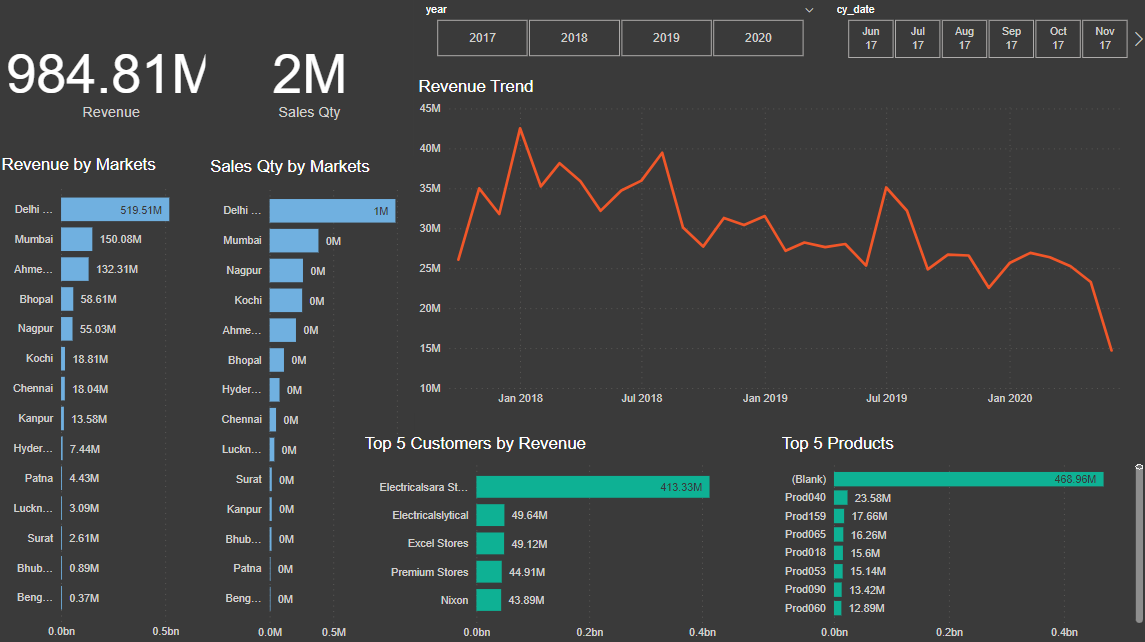

The page's visual inventory and layout, read from the dashboard file:
{"tool":"powerbi","page":{"name":"Page 1","canvas":[1280,720],"ordinal":0},"visuals":[{"type":"card","fields":{"Values":["BaseMeasures.Revenue"]},"box":[0,0,253.3,175],"z":0},{"type":"card","fields":{"Values":["BaseMeasures.Sales Qty"]},"box":[253.3,0,208.3,175],"z":1000},{"type":"barChart","title":"Revenue by Markets","fields":{"Y":["BaseMeasures.Revenue"],"Category":["sales markets.markets_name"]},"box":[0,173.9,231.2,545.7],"z":2000},{"type":"barChart","title":"Sales Qty by Markets","fields":{"Y":["BaseMeasures.Sales Qty"],"Category":["sales markets.markets_name"]},"box":[231.7,175,231.7,545],"z":3000},{"type":"slicer","fields":{"Values":["sales date.year"]},"box":[463.3,0,456.7,70],"z":4000},{"type":"slicer","fields":{"Values":["sales date.cy_date"]},"box":[920,0,360,70],"z":5000},{"type":"barChart","title":"Top 5 Customers by Revenue","fields":{"Y":["BaseMeasures.Revenue"],"Category":["sales customers.custmer_name"]},"box":[403.3,483.3,463.3,236.7],"z":6000},{"type":"barChart","title":"Top 5 Products","fields":{"Y":["BaseMeasures.Revenue"],"Category":["sales products.product_code"]},"box":[866.7,483.3,411.7,236.7],"z":6001},{"type":"lineChart","title":"Revenue Trend","fields":{"Y":["BaseMeasures.Revenue"],"Category":["sales date.cy_date.Variation.Date Hierarchy.Year","sales date.cy_date.Variation.Date Hierarchy.Quarter","sales date.cy_date.Variation.Date Hierarchy.Month","sales date.cy_date.Variation.Date Hierarchy.Day"]},"box":[463.3,86.7,805,373.3],"z":6002}]}

Visuals, with their boxes in screenshot pixels (x1, y1, x2, y2), scaled from the page's 1280x720 canvas onto the 1145x642 screenshot:
card - BaseMeasures.Revenue: <region>0, 0, 227, 156</region>
card - BaseMeasures.Sales Qty: <region>227, 0, 413, 156</region>
"Revenue by Markets" barChart: <region>0, 155, 207, 641</region>
"Sales Qty by Markets" barChart: <region>207, 156, 415, 641</region>
slicer - sales date.year: <region>414, 0, 823, 62</region>
slicer - sales date.cy_date: <region>823, 0, 1144, 62</region>
"Top 5 Customers by Revenue" barChart: <region>361, 431, 775, 641</region>
"Top 5 Products" barChart: <region>775, 431, 1144, 641</region>
"Revenue Trend" lineChart: <region>414, 77, 1135, 410</region>
